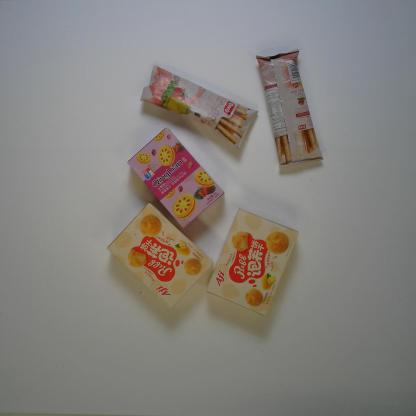Dessert: (105, 197, 215, 311), (138, 59, 261, 152), (203, 206, 299, 320), (126, 126, 224, 229), (253, 47, 326, 170)
